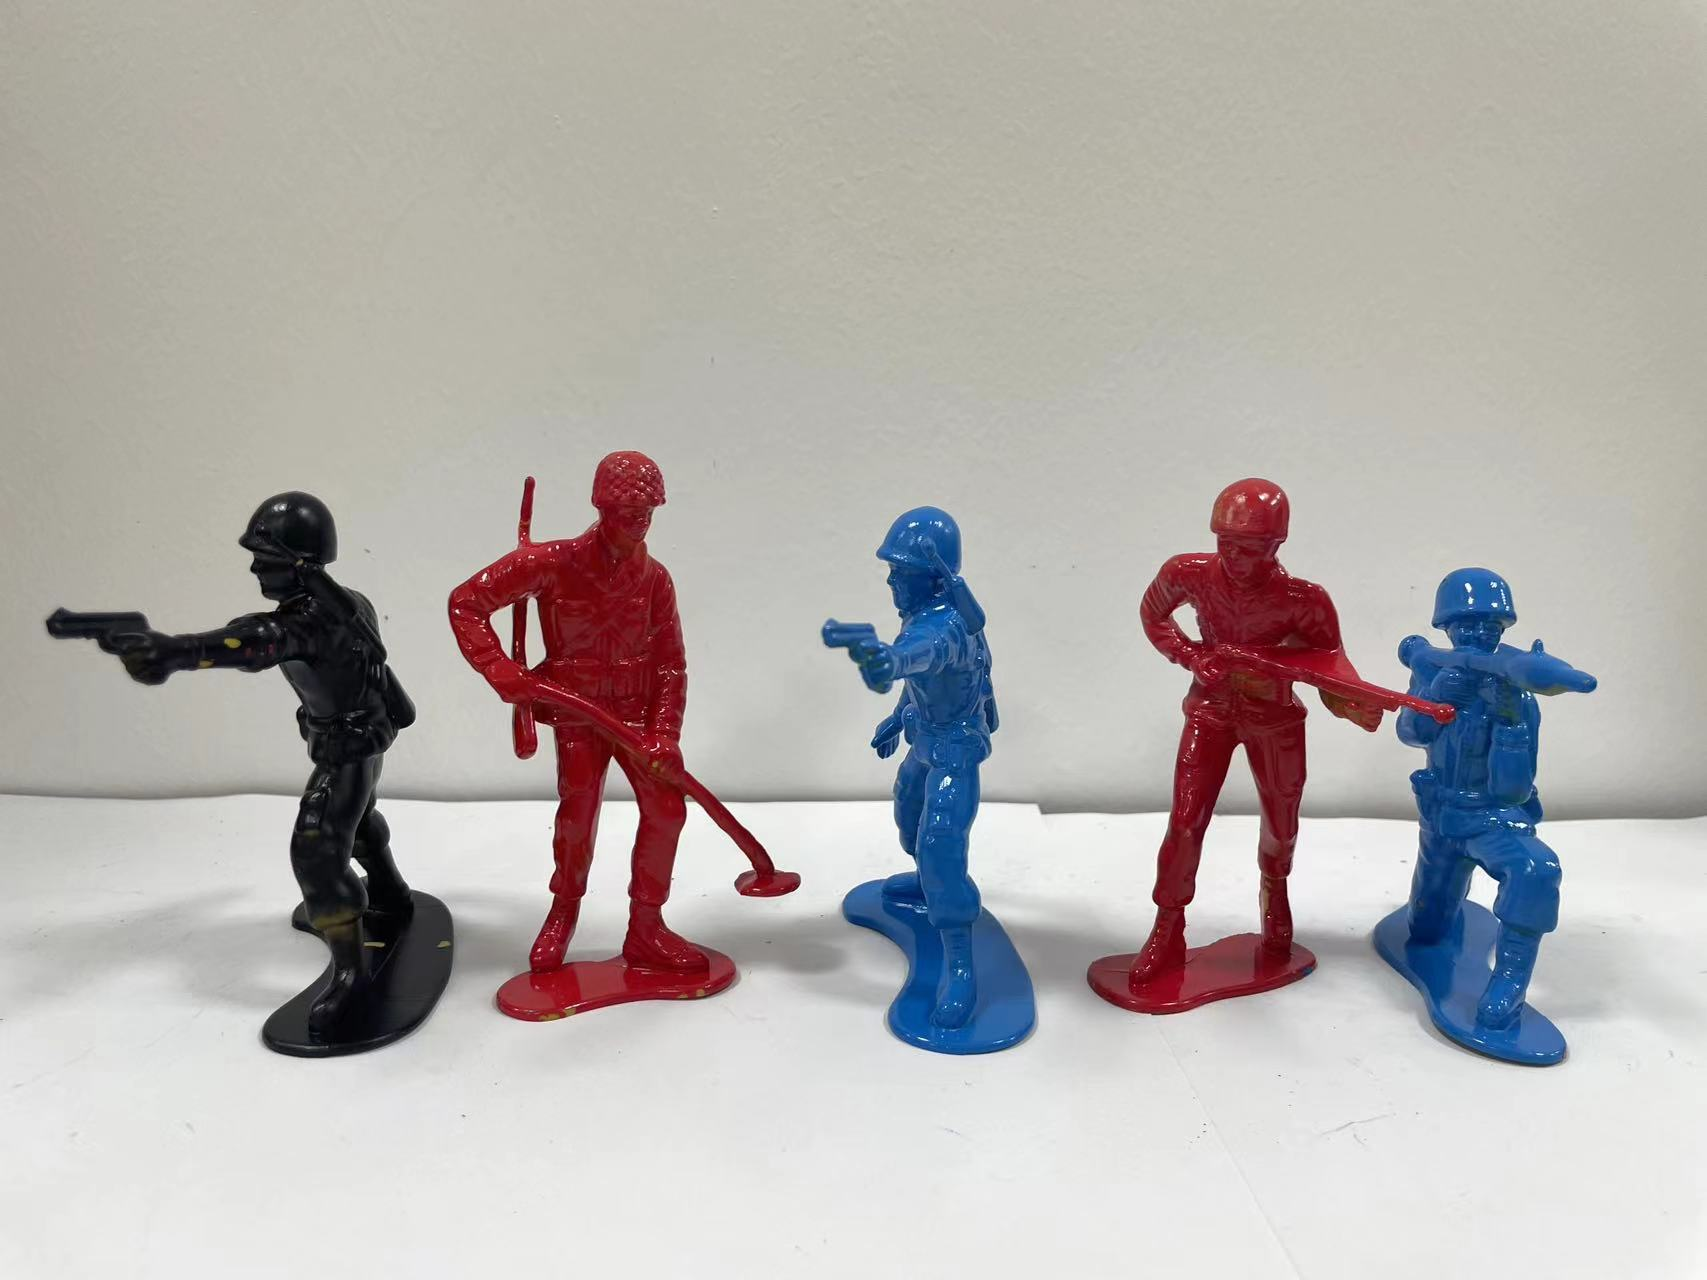black: (46, 454, 460, 1113)
blue: (1386, 534, 1665, 1116), (796, 481, 1062, 1077)
red: (444, 422, 802, 1078), (1055, 433, 1380, 1065)
